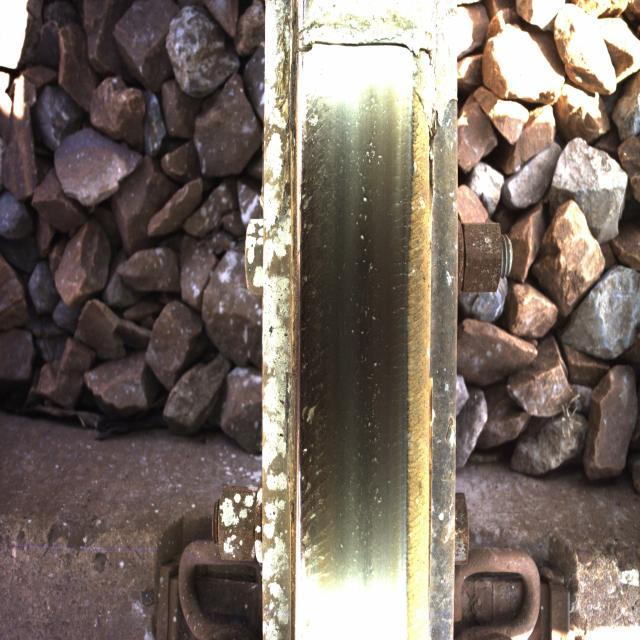spalling: (296, 0, 440, 78)
